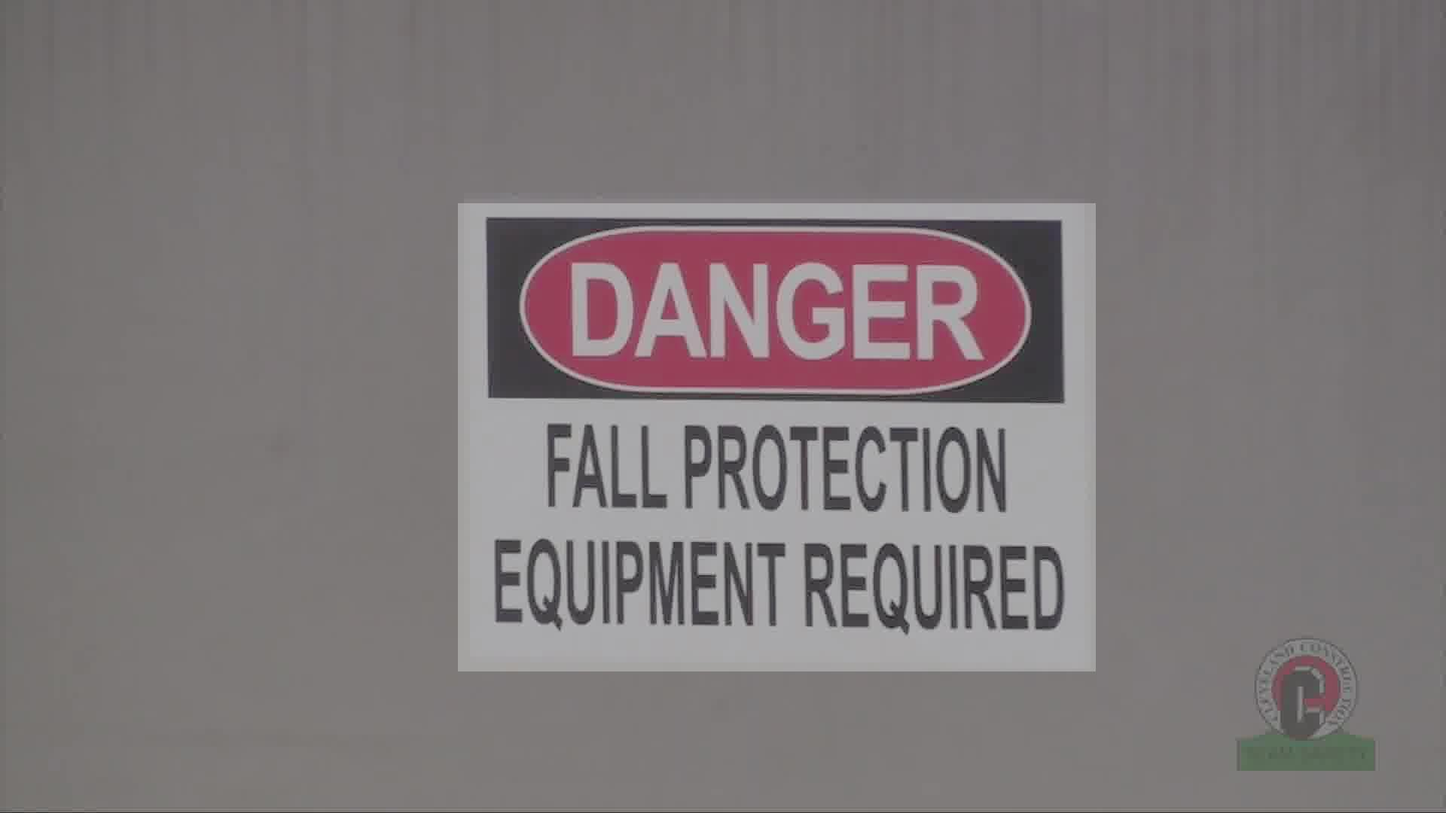safety_signage: (458, 203, 1096, 671)
